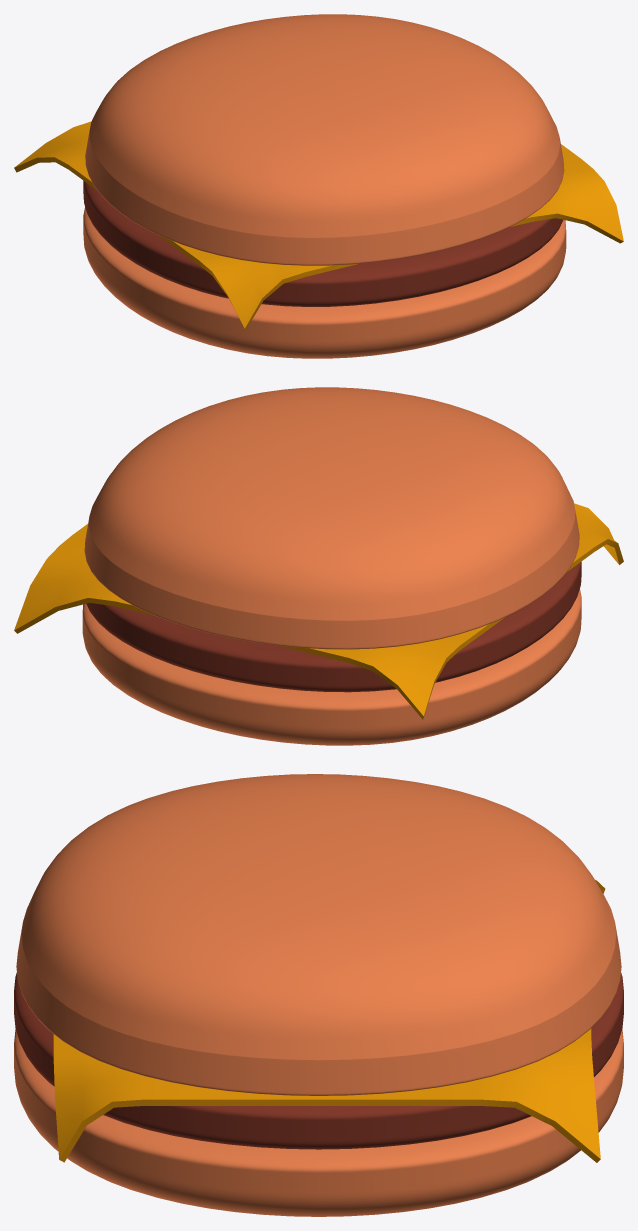
Rendered from Burger.glb.
3 views of the same model, one above another, from view 1: azimuth 30°, elevation 25°; view 2: azimuth 150°, elevation 25°; view 3: azimuth 270°, elevation 25° (orthographic). The views are drawn at different scales.
Visible parts, largest first — view 1: Cube.002, Cube, Cube.001, Plane; view 2: Cube.002, Cube, Cube.001, Plane; view 3: Cube.002, Cube, Plane, Cube.001.
Part boxes in pixels (x1,y1,x2,y2): Cube.002: (85,14,564,265); Cube: (83,207,566,358); Cube.001: (83,180,563,306); Plane: (14,121,623,329); Cube.002: (84,387,579,649); Cube: (82,589,581,745); Cube.001: (86,561,581,692); Plane: (14,503,623,719); Cube.002: (16,774,621,1095); Cube: (14,1029,623,1216); Plane: (53,879,605,1162); Cube.001: (14,972,623,1149).
Size of the model in its own units: 7.28 by 3.67 by 7.28.
